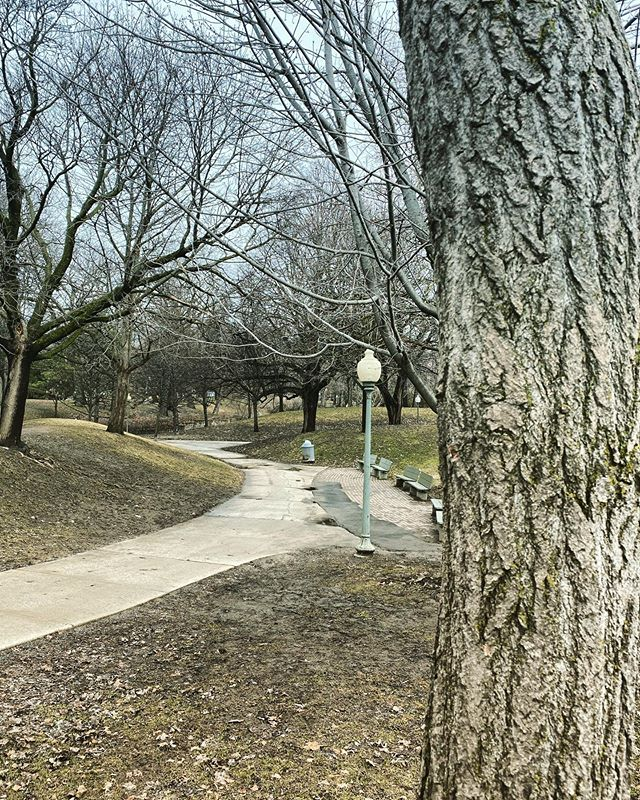light pole: (344, 342, 392, 570)
vegetation: (1, 1, 431, 428)
